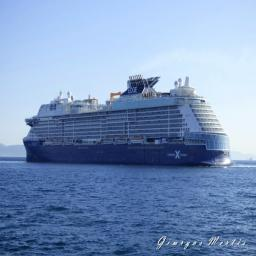cruises: (22, 74, 234, 172)
